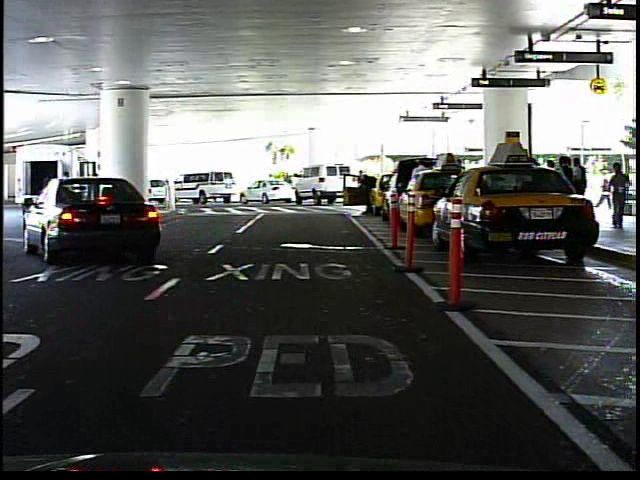person: (606, 159, 633, 229), (355, 165, 379, 220), (596, 164, 612, 211), (283, 169, 295, 198), (267, 172, 276, 179)
